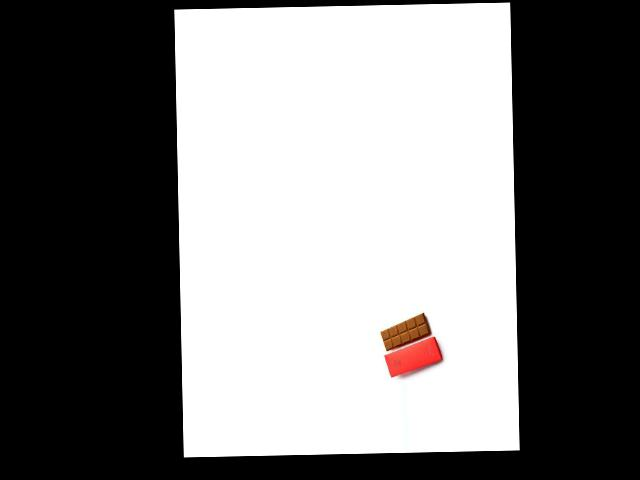chocolate: (379, 312, 433, 353)
